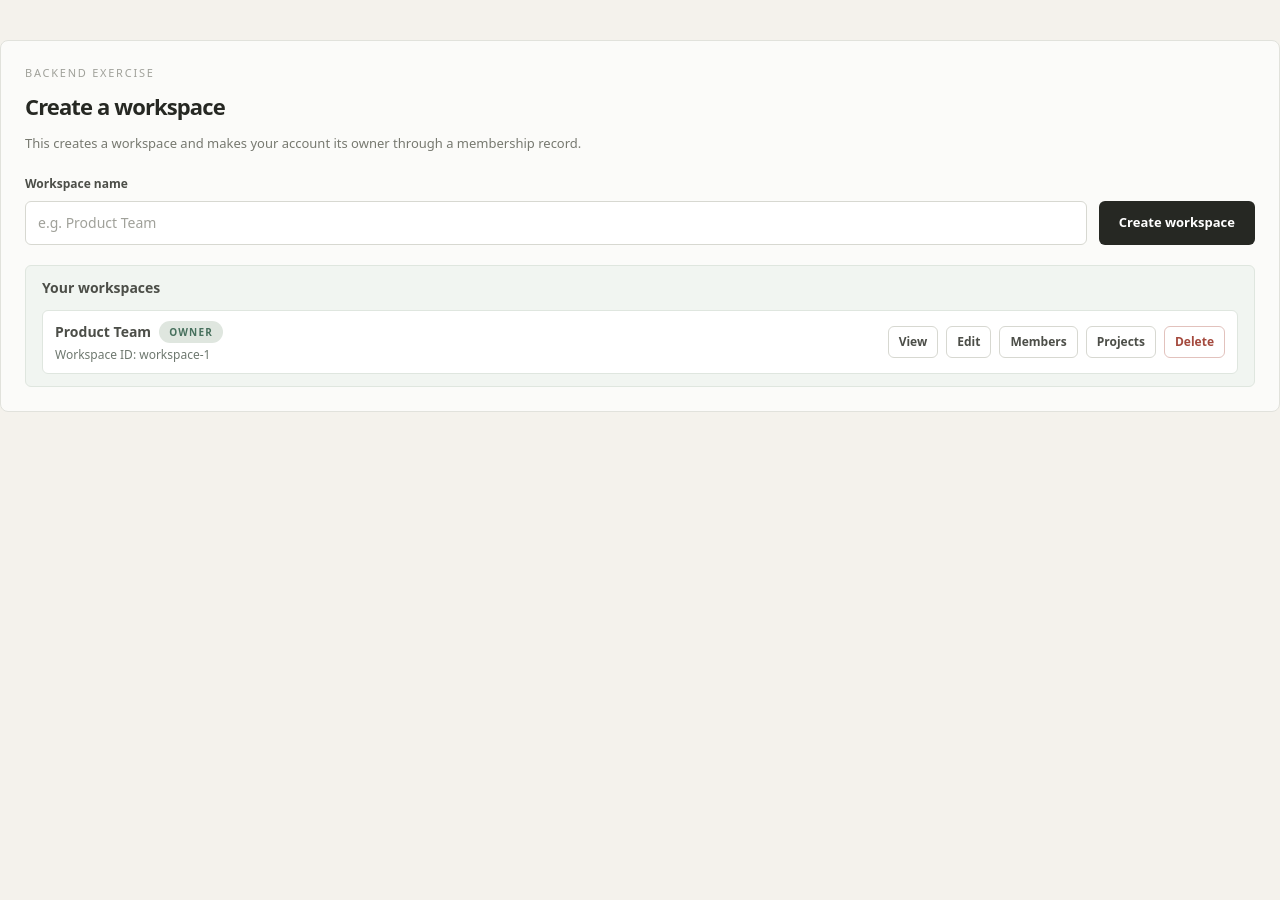
it: WorkspaceCreator › opens workspace details from the list
Expected: the text "Product Team" is shown, [55,322,151,342]
Step 1. Click the button with aria-label "View Product Team" → (913, 342), box [888,326,938,358]
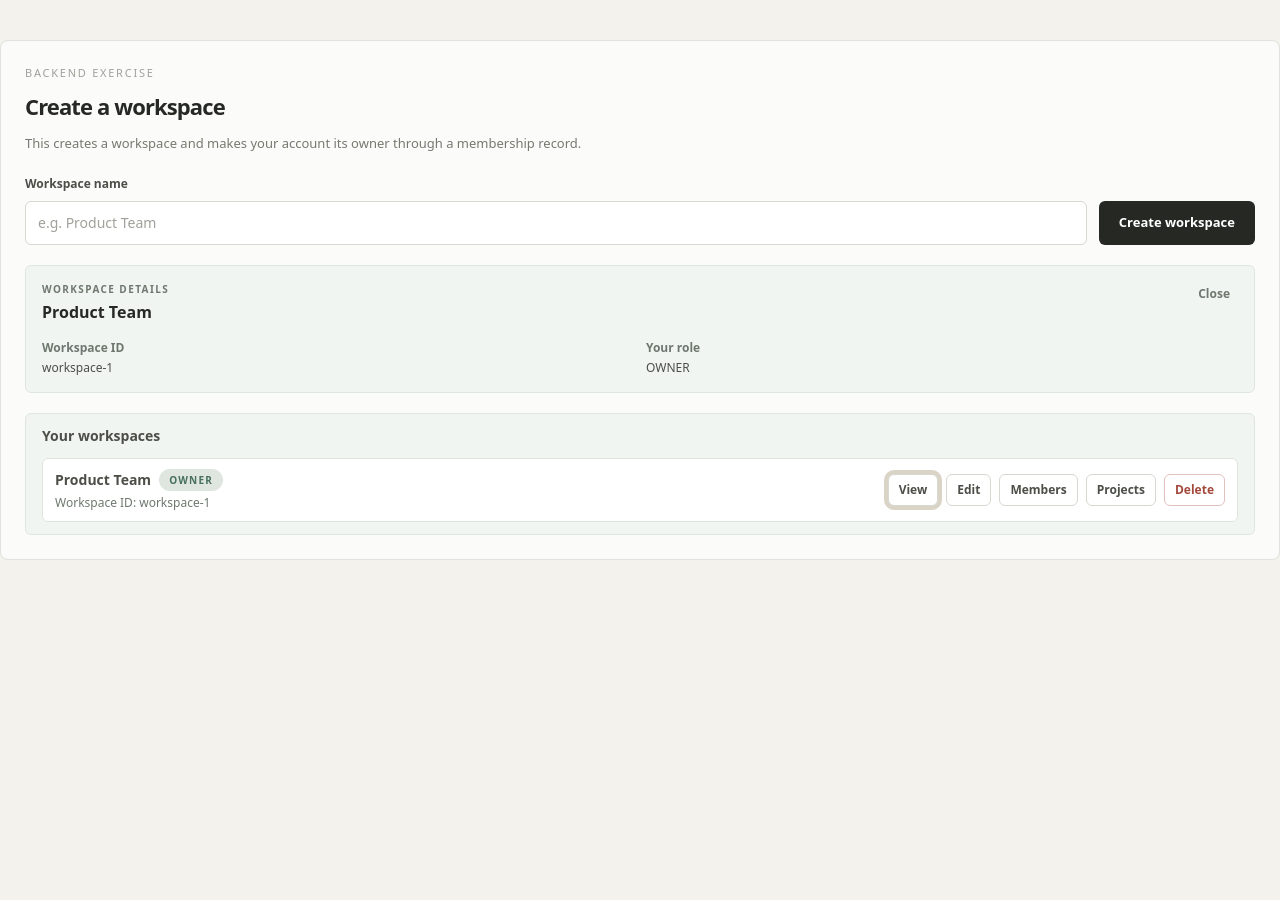
Result: the dialog shows "Product Team" at [42,301,152,323]
Result: the dialog shows "workspace-1" at [42,359,113,376]
Result: the button "Close" is shown at [1190,282,1238,306]
